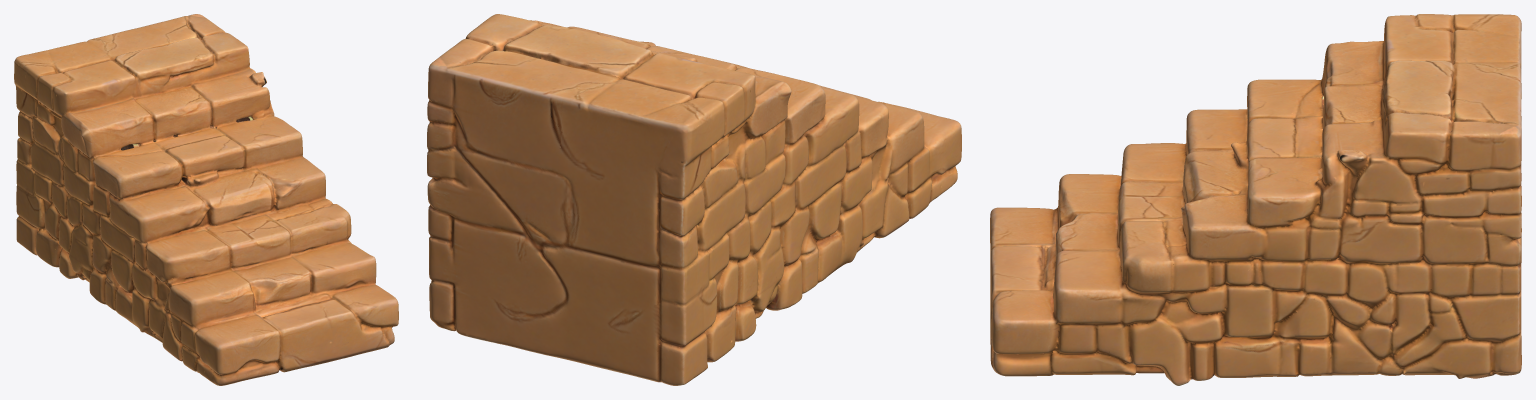
The model's file is Meshy_AI_A_sandstone_stair_fli_1016100020_stylize.fbx.
3 views of the same model, side by side, from view 1: azimuth 30°, elevation 25°; view 2: azimuth 150°, elevation 25°; view 3: azimuth 270°, elevation 25° (orthographic). The views are drawn at different scales.
Parts seen in each view (by area): view 1: file1; view 2: file1; view 3: file1.
Part boxes in pixels (bbox=[...]): file1: bbox=[14, 14, 398, 385]; file1: bbox=[427, 14, 961, 385]; file1: bbox=[990, 14, 1521, 385].
Size of the model in its own units: 112 by 105 by 199.
1 material, 1 textured.
